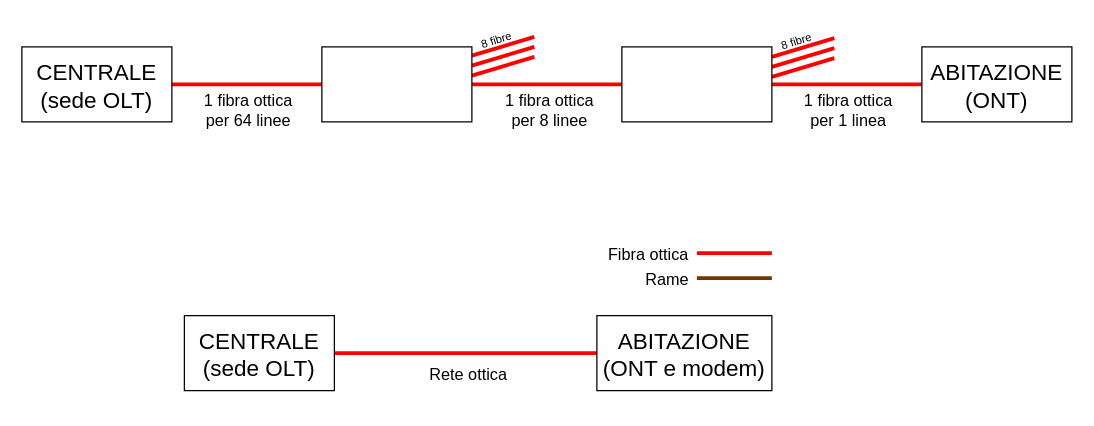
This 1094x426 diagram has some shape labels left out. Here are the shapes that lost their labels. From the top down, the box of each, then its label:
(321, 46, 472, 122): SPLITTER OTTICO
(621, 46, 772, 122): ROE (con splitter)
